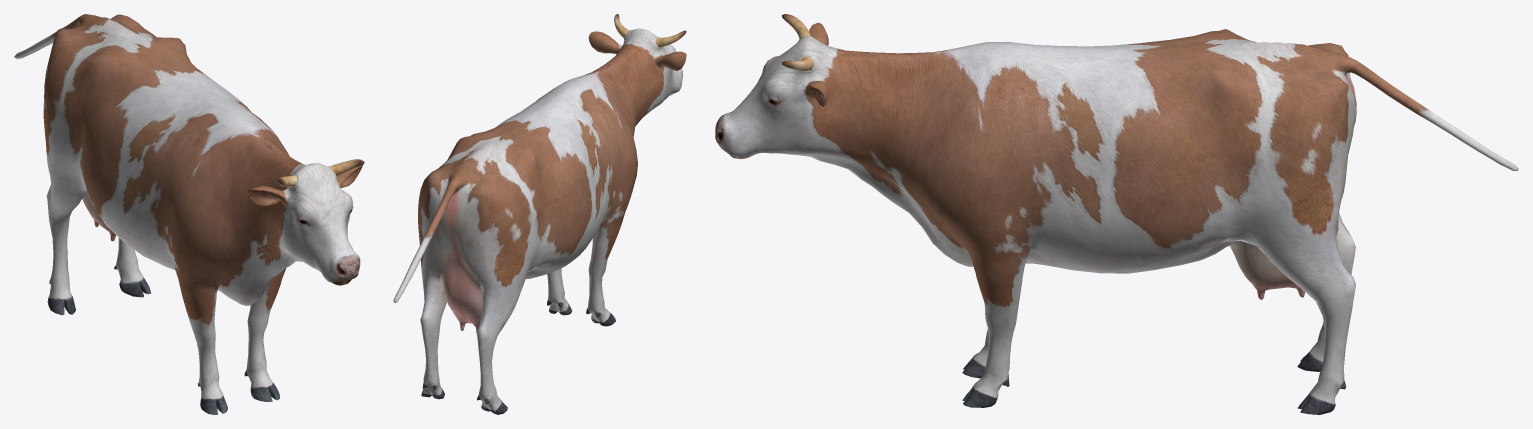
File: cow.glb
3 renders of one model, left to right at view 1: azimuth 30°, elevation 25°; view 2: azimuth 150°, elevation 25°; view 3: azimuth 270°, elevation 25°, orthographic. The views are drawn at different scales.
Parts seen in each view (by area): view 1: Cow; view 2: Cow; view 3: Cow.
Boxes of the visible parts, x1,y1,x2,y2 form: Cow: (14, 14, 364, 414); Cow: (393, 14, 686, 414); Cow: (715, 14, 1518, 414).
Size of the model in its own units: 0.7698 by 1.53 by 3.18.
Materials: 1 (1 with a texture image).
